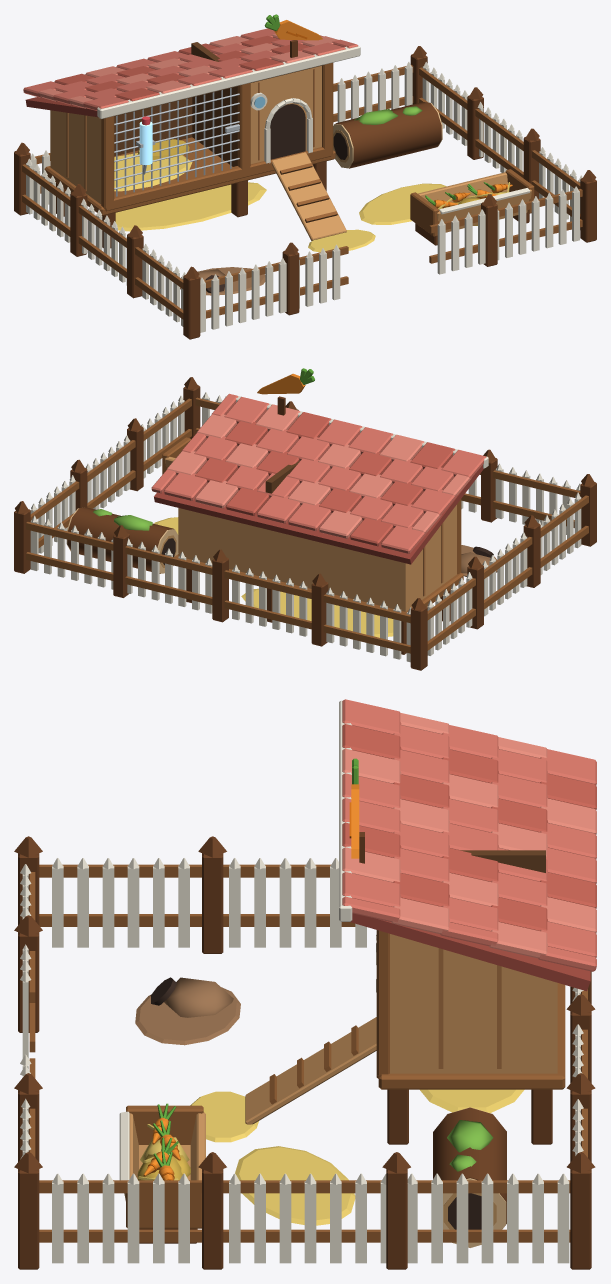
The model's file is hutch.glb.
3 views of the same model, one above another, from view 1: azimuth 30°, elevation 25°; view 2: azimuth 150°, elevation 25°; view 3: azimuth 270°, elevation 25° (orthographic). The views are drawn at different scales.
Parts seen in each view (by area): view 1: Hutch_Body, Hutch_Trough, Hutch_Feed_carrot; view 2: Hutch_Body; view 3: Hutch_Body, Hutch_Trough, Hutch_Feed_carrot, Hutch_Feed_hay.
Boxes of the visible parts, x1,y1,x2,y2 form: Hutch_Body: [14, 14, 596, 339]; Hutch_Trough: [410, 169, 534, 245]; Hutch_Feed_carrot: [425, 182, 512, 208]; Hutch_Body: [14, 368, 596, 670]; Hutch_Body: [14, 699, 596, 1269]; Hutch_Trough: [119, 1105, 205, 1243]; Hutch_Feed_carrot: [143, 1103, 180, 1180]; Hutch_Feed_hay: [137, 1124, 190, 1180].
Size of the model in its own units: 3.99 by 1.97 by 3.
